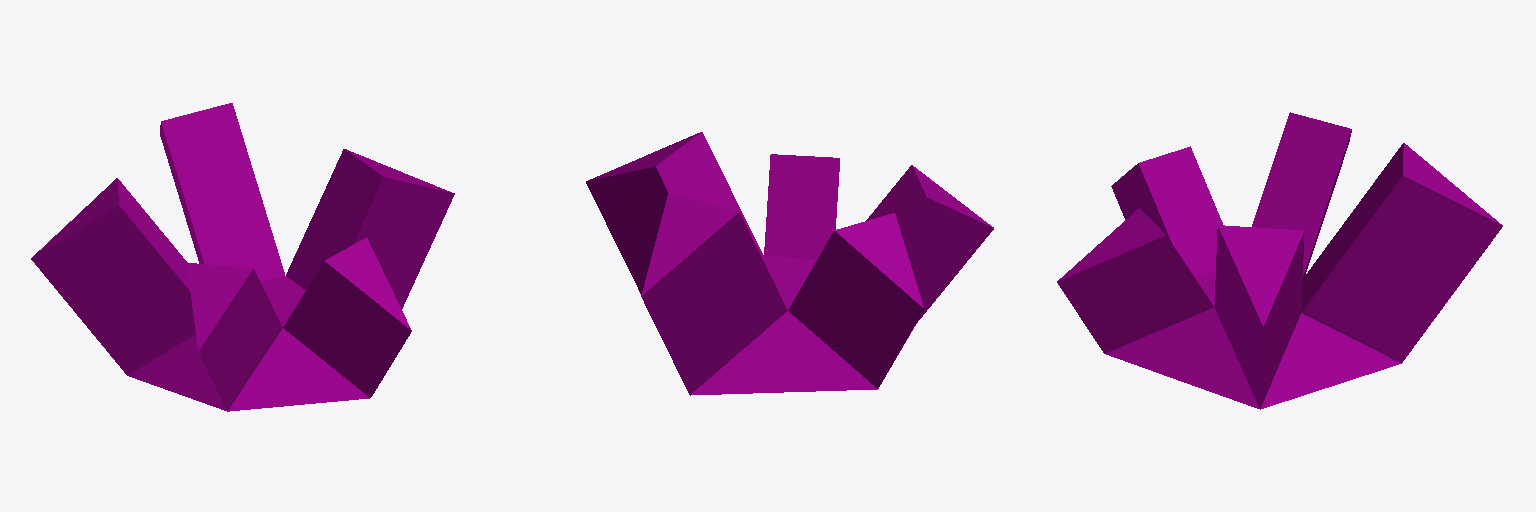
Rendered from MAGICALCRYSTALTHING.obj.
3 views of the same model, side by side, from view 1: azimuth 30°, elevation 25°; view 2: azimuth 150°, elevation 25°; view 3: azimuth 270°, elevation 25° (orthographic).
Parts seen in each view (by area): view 1: Cube_Cube.003; view 2: Cube_Cube.003; view 3: Cube_Cube.003.
Boxes of the visible parts, x1=… form: Cube_Cube.003: x1=31, y1=103, x2=454, y2=411; Cube_Cube.003: x1=586, y1=132, x2=993, y2=395; Cube_Cube.003: x1=1057, y1=112, x2=1502, y2=409.
Size of the model in its own units: 11.53 by 5.73 by 11.69.